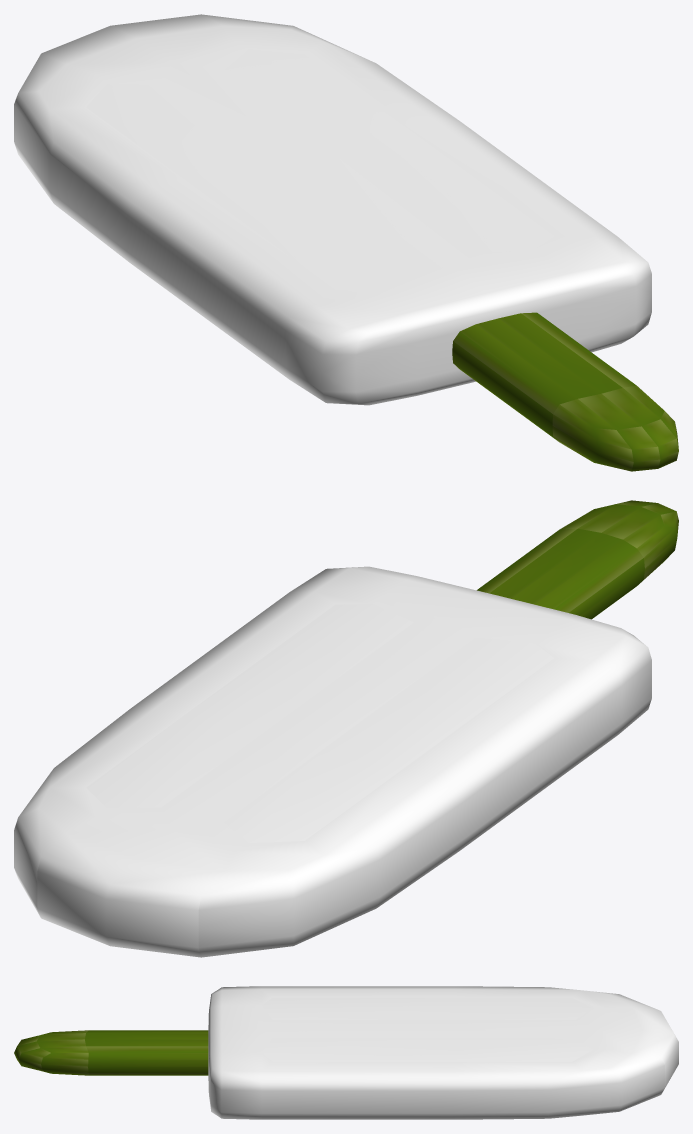
File: OBS0110281.fbx
3 renders of one model, top to bottom at view 1: azimuth 30°, elevation 25°; view 2: azimuth 150°, elevation 25°; view 3: azimuth 270°, elevation 25°, orthographic. The views are drawn at different scales.
Visible parts, largest first — view 1: smOBS0110281; view 2: smOBS0110281; view 3: smOBS0110281.
Part boxes in pixels (bbox=[...]): smOBS0110281: bbox=[14, 14, 678, 471]; smOBS0110281: bbox=[14, 500, 678, 957]; smOBS0110281: bbox=[14, 986, 678, 1119].
Bounding box in the file's own units: 105 × 23.96 × 299.
